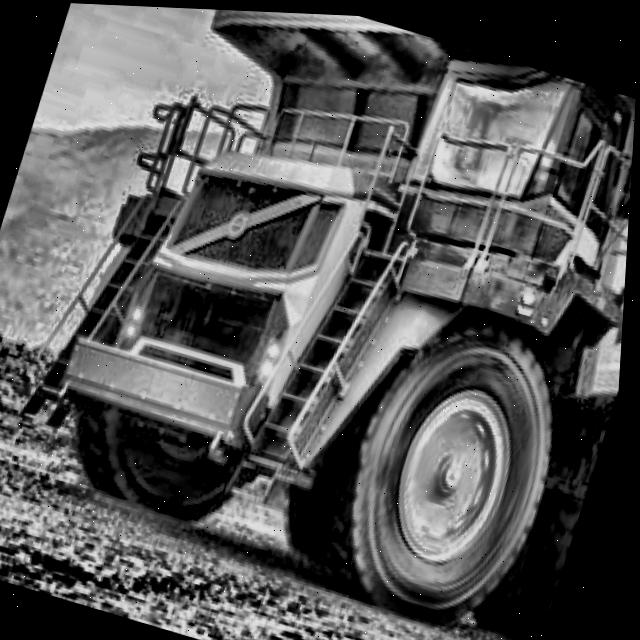dump_truck: (0, 1, 640, 640)
